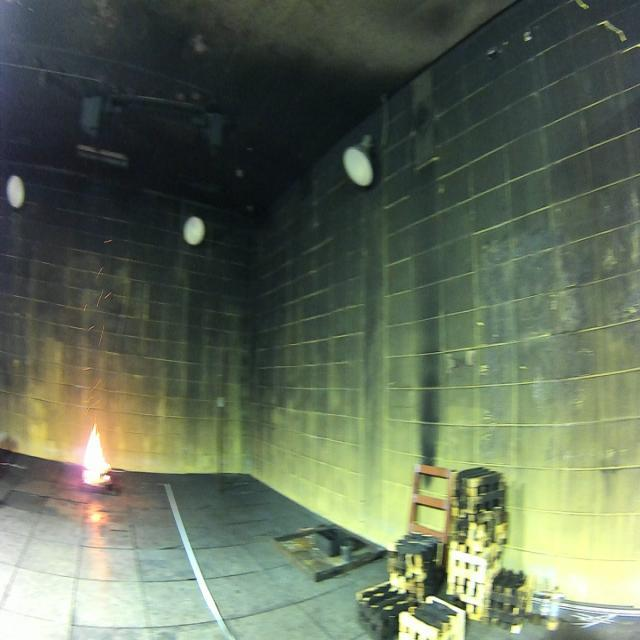Fire: (82, 414, 112, 486)
